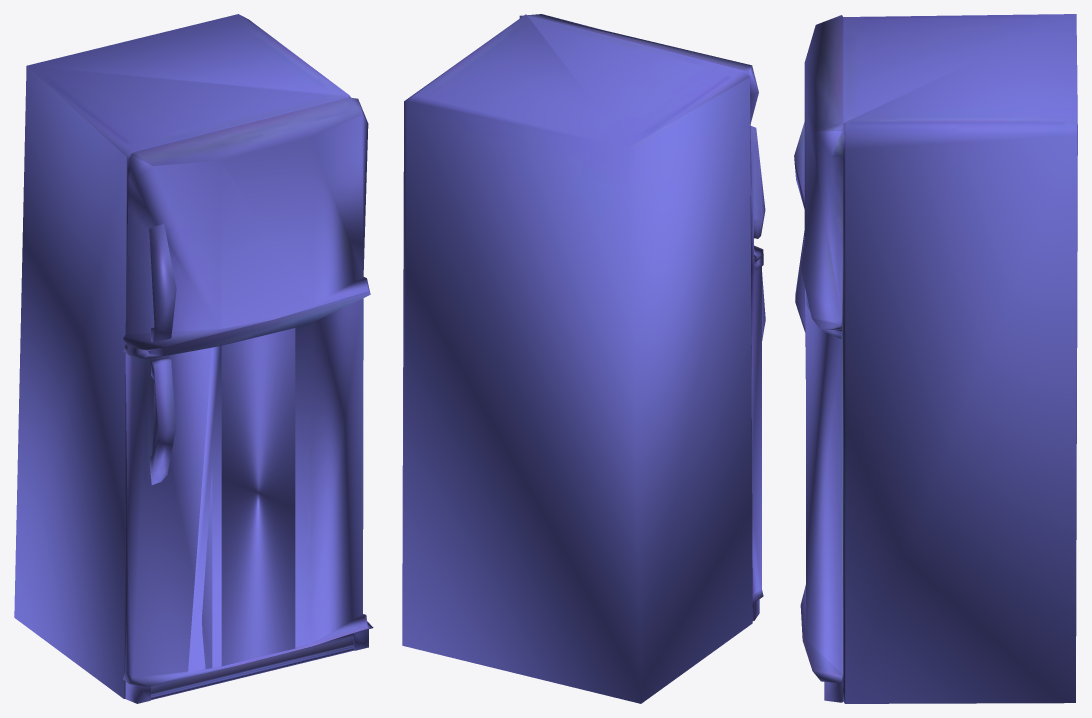
Rendered from model.progressive.glb.
The picture shows the model from 3 angles, left to right: view 1: azimuth 30°, elevation 25°; view 2: azimuth 150°, elevation 25°; view 3: azimuth 270°, elevation 25°; orthographic projection. The views are drawn at different scales.
Visible parts, largest first — view 1: material; view 2: material; view 3: material.
Part boxes in pixels (box(x1,y1,x2,y2)): material: box(14, 14, 373, 703); material: box(402, 14, 765, 703); material: box(794, 14, 1077, 703).
Bounding box in the file's own units: 0.8786 × 1.89 × 0.8473.
Materials: 1 (1 with a texture image).
